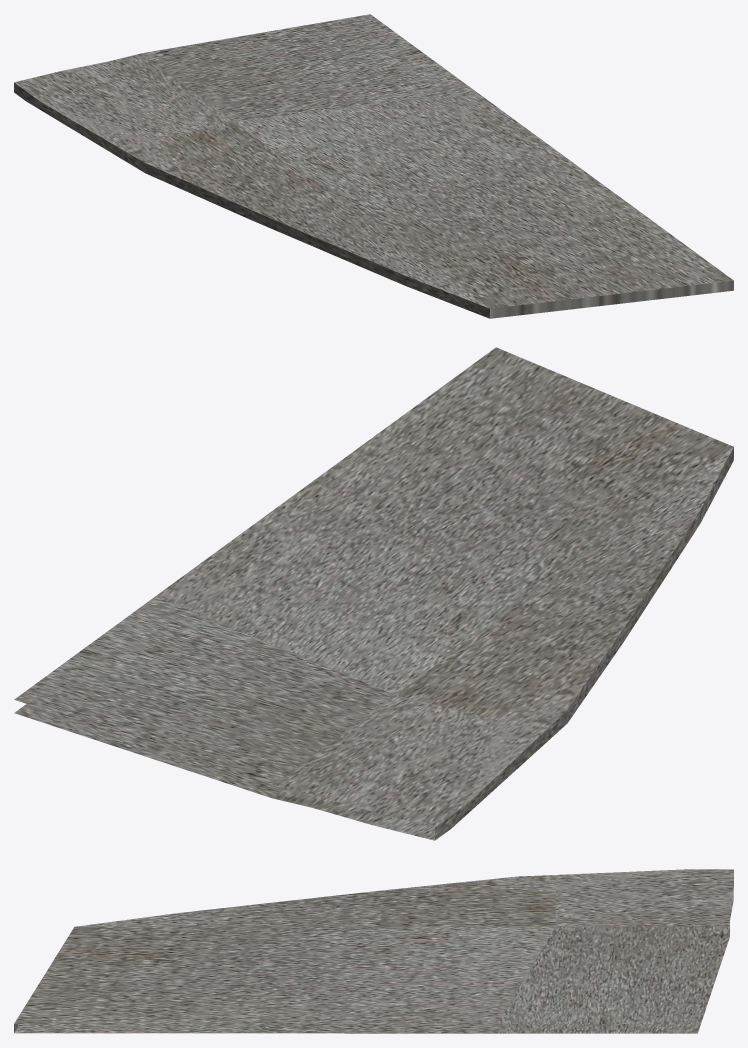
File: chão audio1.fbx
3 renders of one model, top to bottom at view 1: azimuth 30°, elevation 25°; view 2: azimuth 150°, elevation 25°; view 3: azimuth 270°, elevation 25°, orthographic. The views are drawn at different scales.
Visible parts, largest first — view 1: sala de audio; view 2: sala de audio; view 3: sala de audio.
Part boxes in pixels (box(x1,y1,x2,y2)): sala de audio: box(14, 14, 733, 318); sala de audio: box(14, 347, 733, 840); sala de audio: box(14, 869, 733, 1033).
Bounding box in the file's own units: 3.49 × 0.1001 × 6.87.
1 material, 1 textured.
